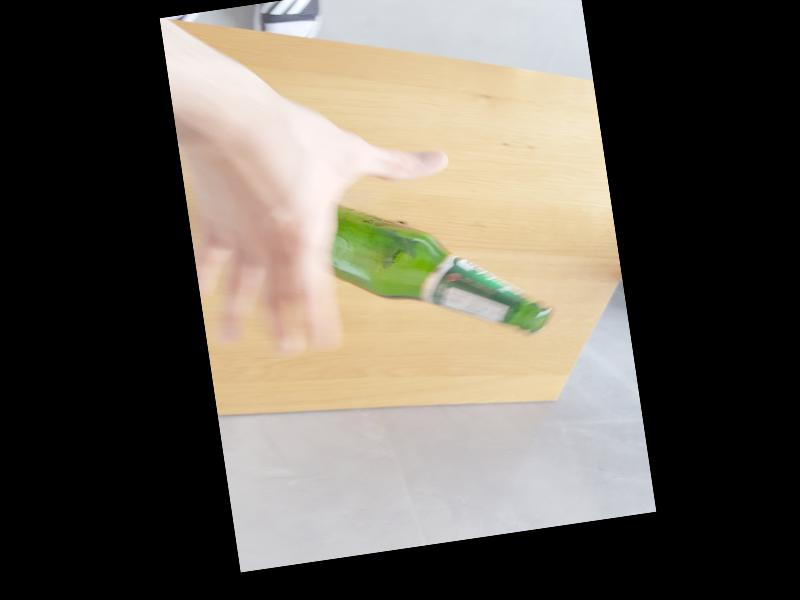Beer: (323, 175, 555, 361)
